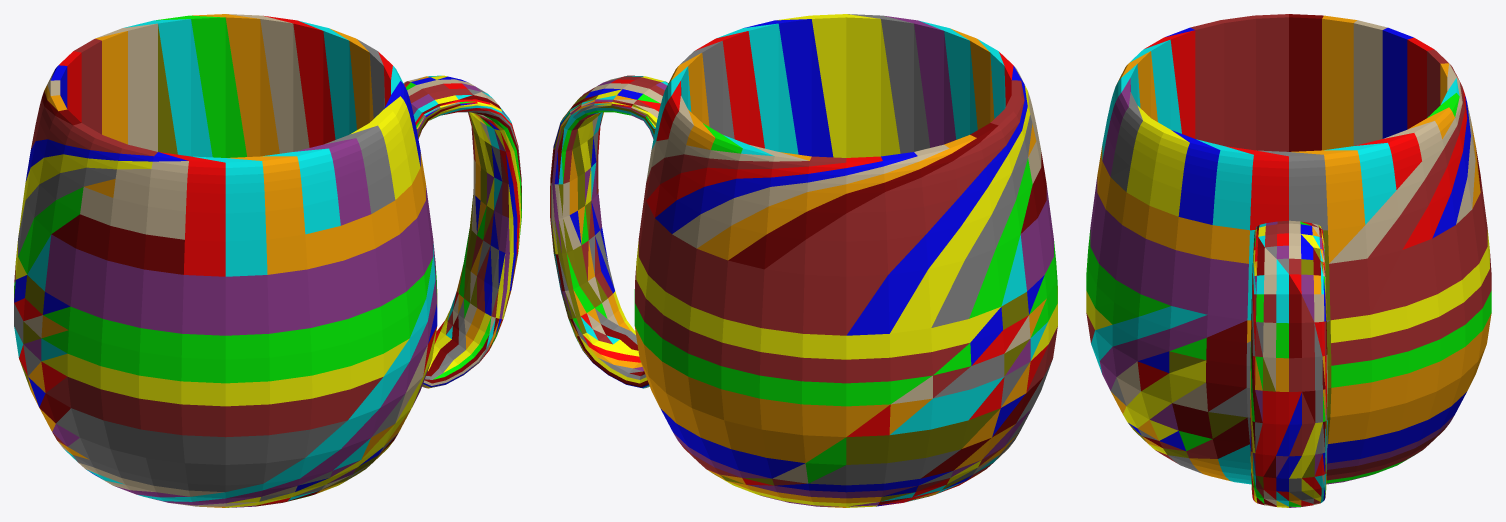
The model's file is colour.obj.
3 views of the same model, side by side, from view 1: azimuth 30°, elevation 25°; view 2: azimuth 150°, elevation 25°; view 3: azimuth 270°, elevation 25° (orthographic). The views are drawn at different scales.
Bounding box in the file's own units: 0.1334 × 0.1 × 0.1047.
